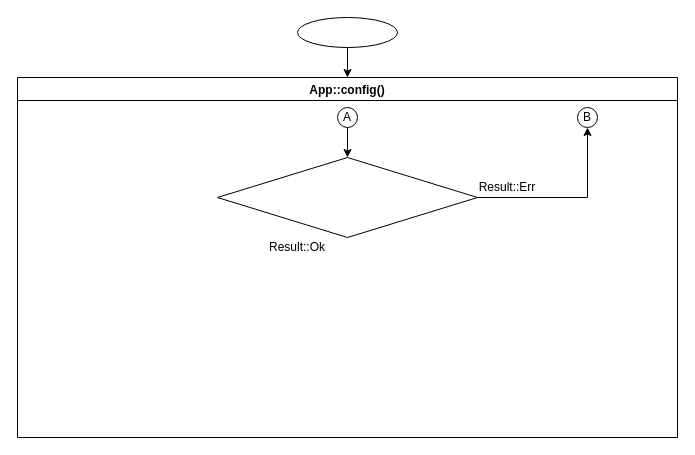
Some shapes in this 695 by 455 pixel diagram are drawn without their labels. The centre of each missing label's shape, as x and y in pixels:
"Modbus::config(PORT, TIMEOUT)" belongs at pixel 347 197.
"Start" belongs at pixel 347 32.
